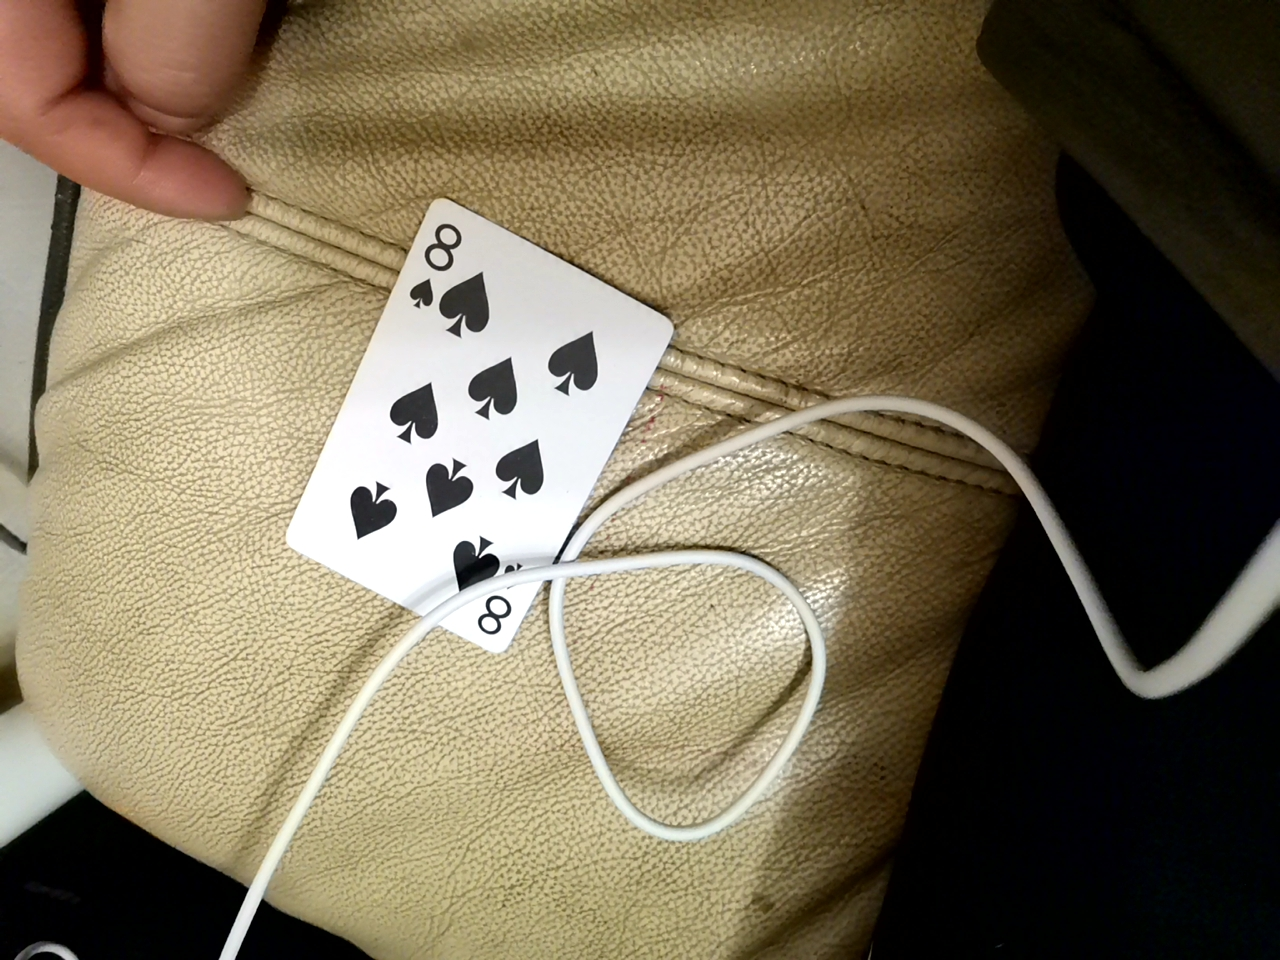ht 8: (285, 210, 668, 664)
